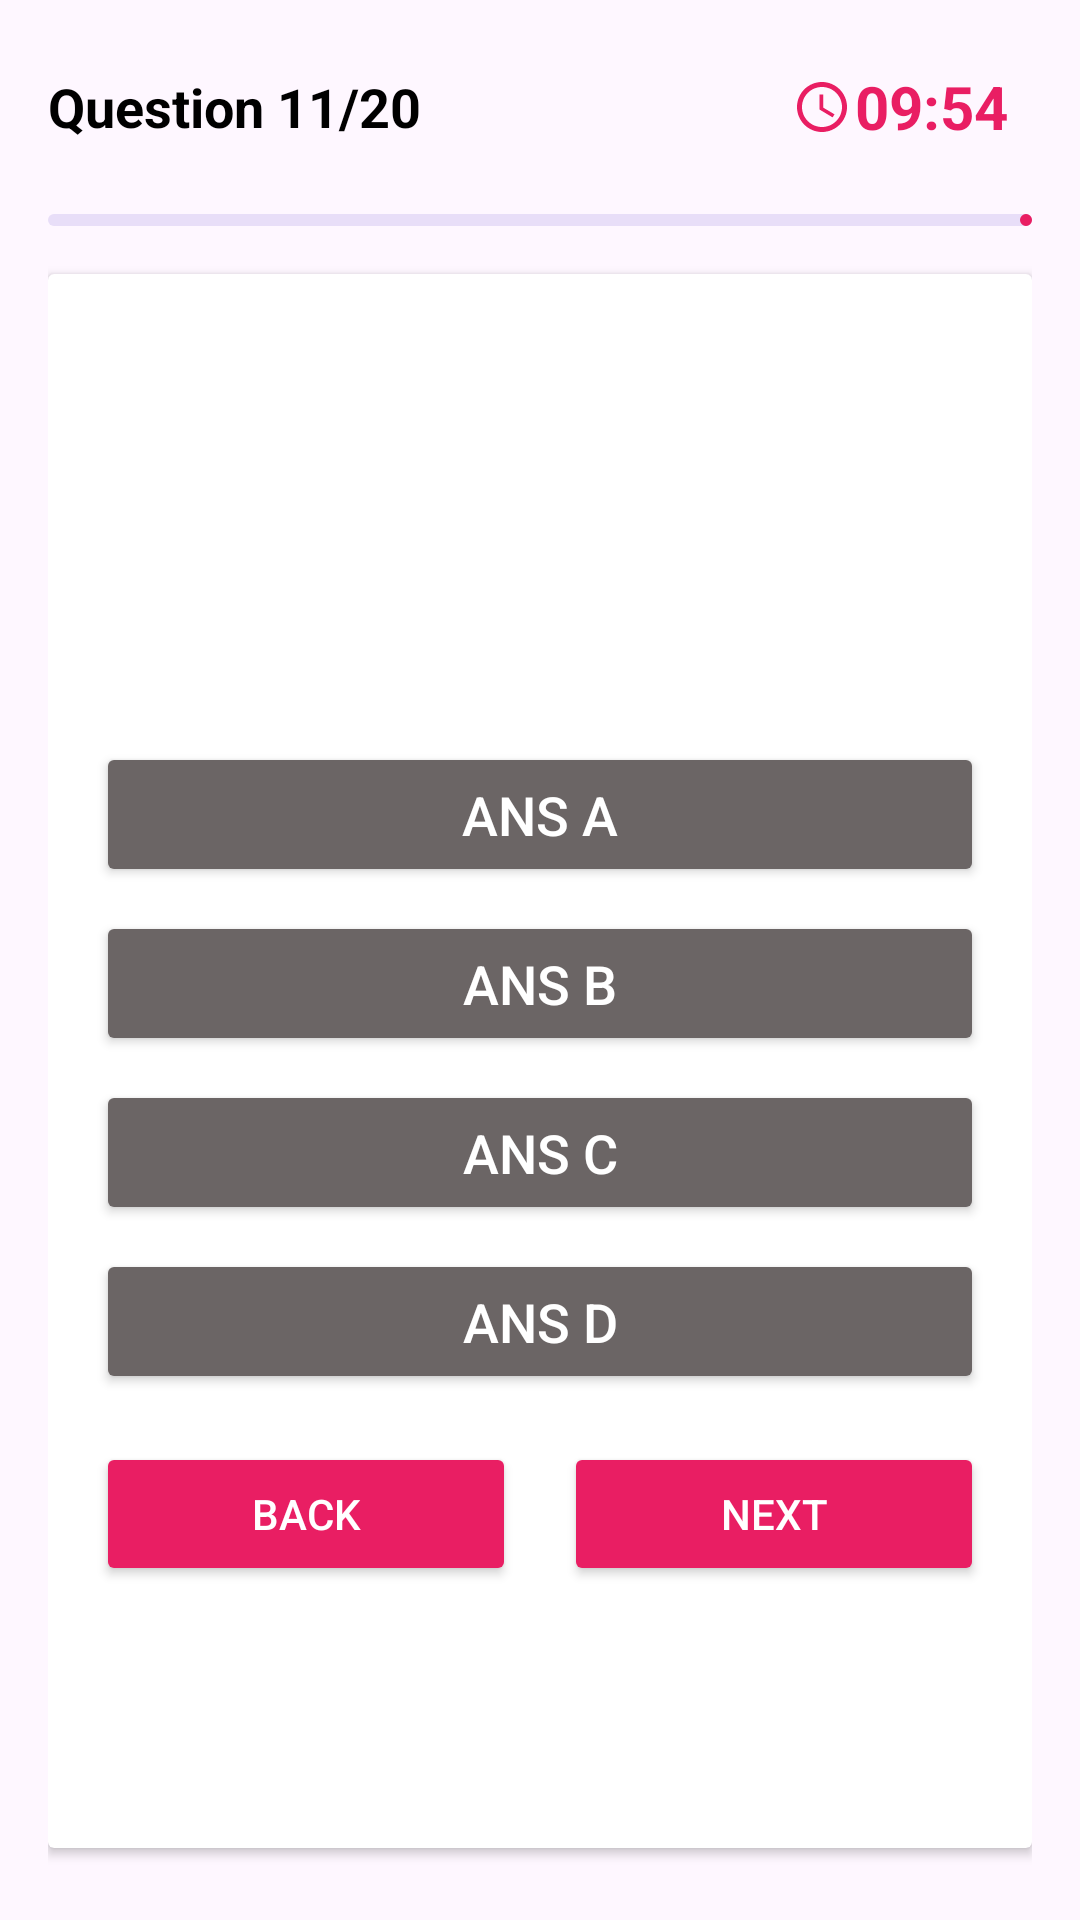

Named icons in this screenshot (1080 × 1920) and their centers, [x,y]:
access time: [822,107]
